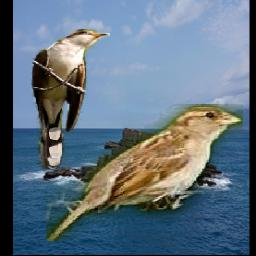Cuckoo: (30, 29, 109, 169)
Sparrow: (45, 105, 242, 242)
